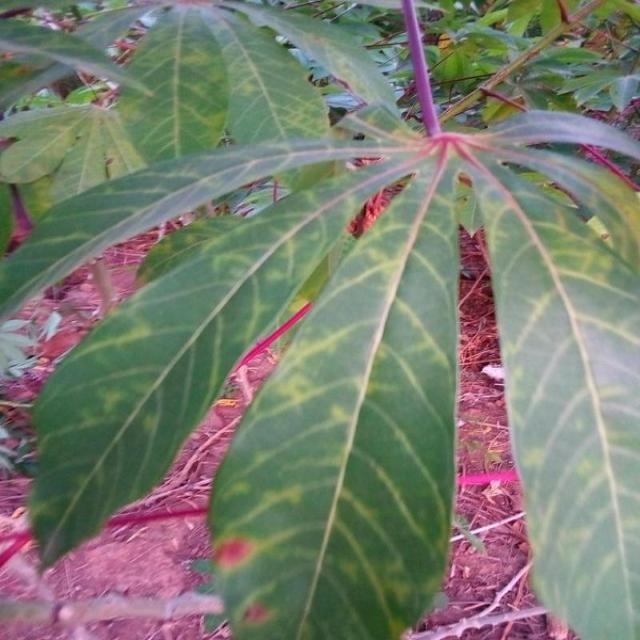cassava leaf: (1, 1, 638, 638), (24, 161, 380, 571), (205, 150, 461, 638), (466, 135, 640, 638)
